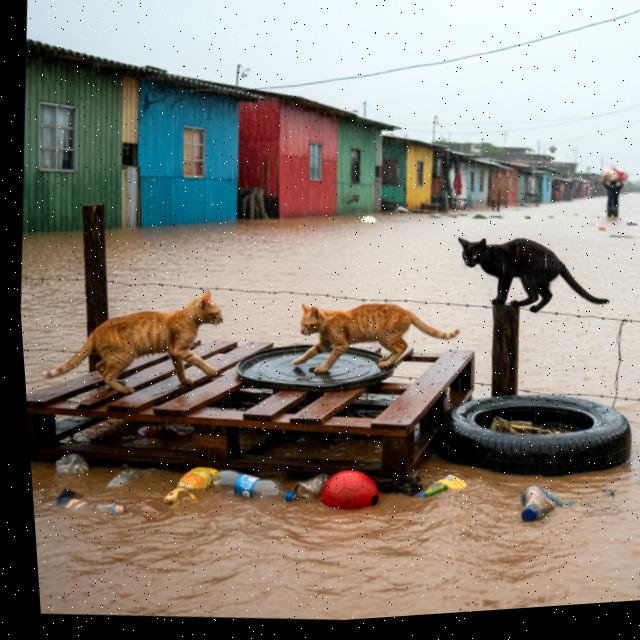cat: (24, 269, 247, 415), (281, 284, 472, 394), (444, 220, 624, 335)
civilian: (594, 168, 632, 227)
